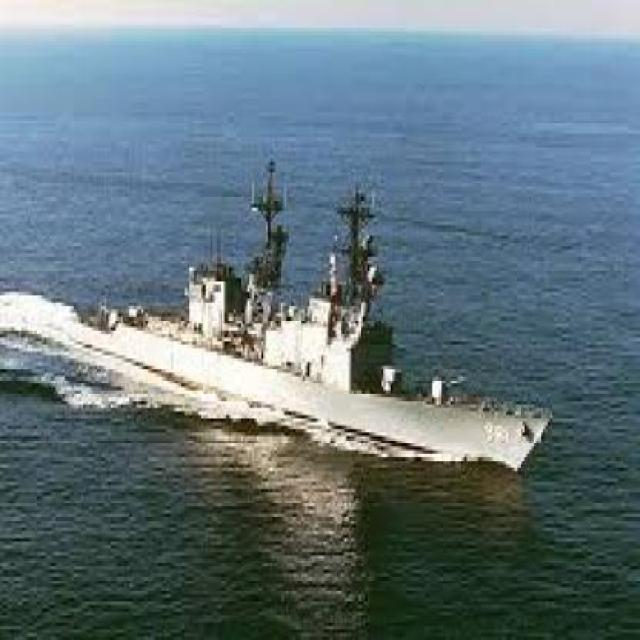warship2: (66, 99, 564, 522)
